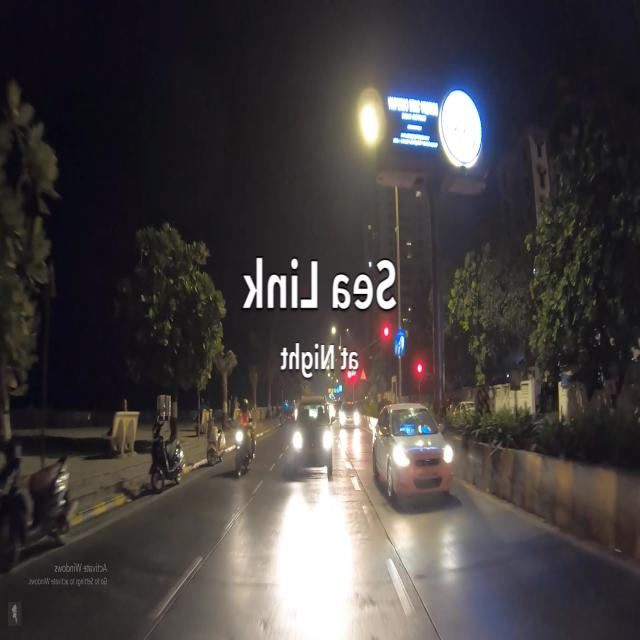headlights: (389, 432, 457, 483), (288, 423, 332, 457), (336, 407, 362, 428)
